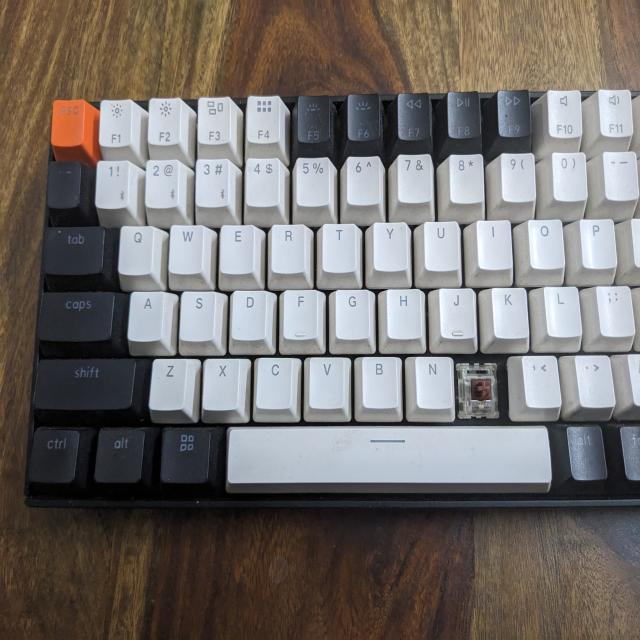C: (456, 358, 502, 417)
